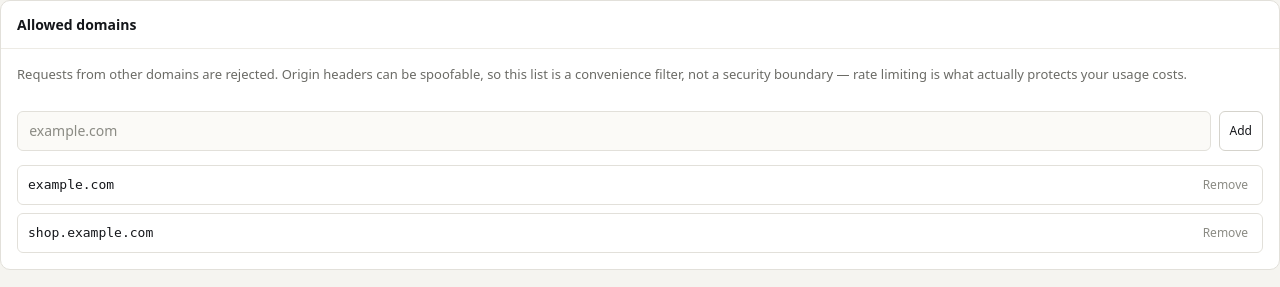
AllowedDomainsSection — validation, undo, empty state (WIDG-05, D3-12) › removing a domain renders an Undo affordance, and activating it restores the row
Expected: the number of list items with test id "allowed-domain-row" is 2, 17,165 -> 1263,205; 17,213 -> 1263,253
What coordinates should you click on to do the following:
click the 1st button titled "Remove example.com"
I would click on:
 (1225, 185)
Its box is 1199,174 -> 1252,196.
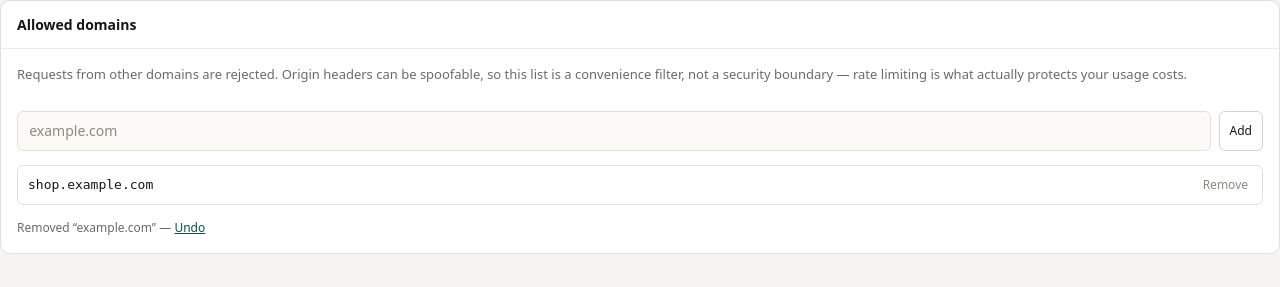
Now the number of list items with test id "allowed-domain-row" is 1, box 17,165 -> 1263,205
Now the message with test id "domain-removed-undo" shows "example.com", box 76,219 -> 152,236
What coordinates should you click on to do the following:
click the button "Undo"
I would click on:
 (190, 228)
Its box is 174,219 -> 205,237.
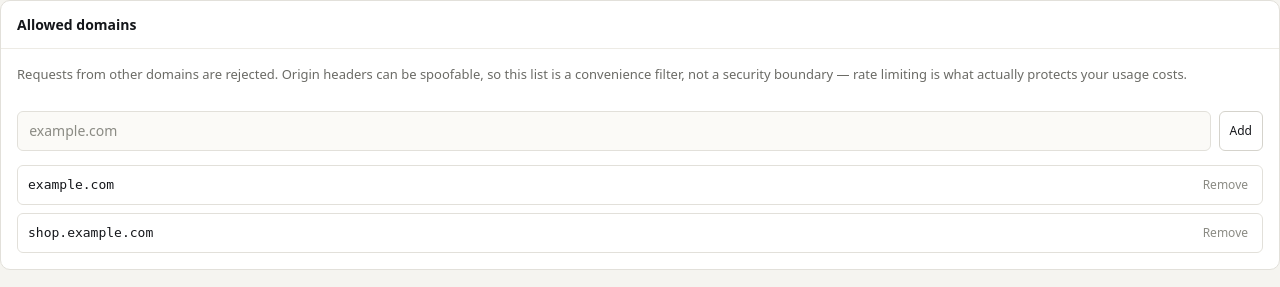
Now the number of list items with test id "allowed-domain-row" is 2, box 17,165 -> 1263,205; 17,213 -> 1263,253
Now the message with test id "domain-removed-undo" is gone
